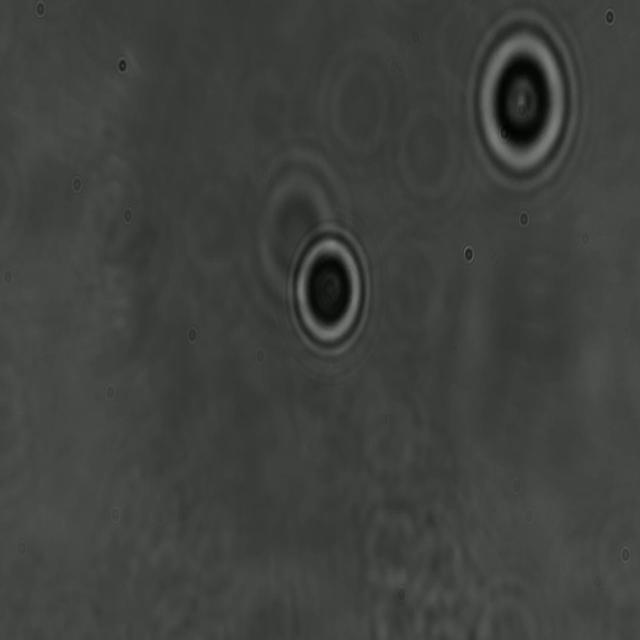DCELL: (284, 218, 376, 362)
LCELL: (463, 10, 582, 192)
